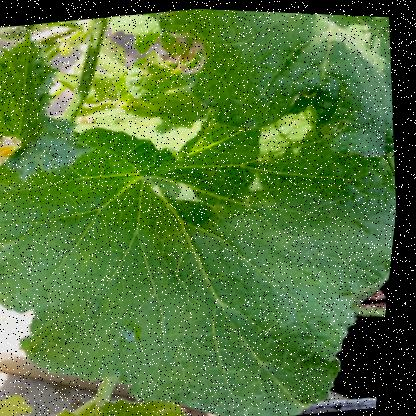Normal: (3, 146, 403, 381)
